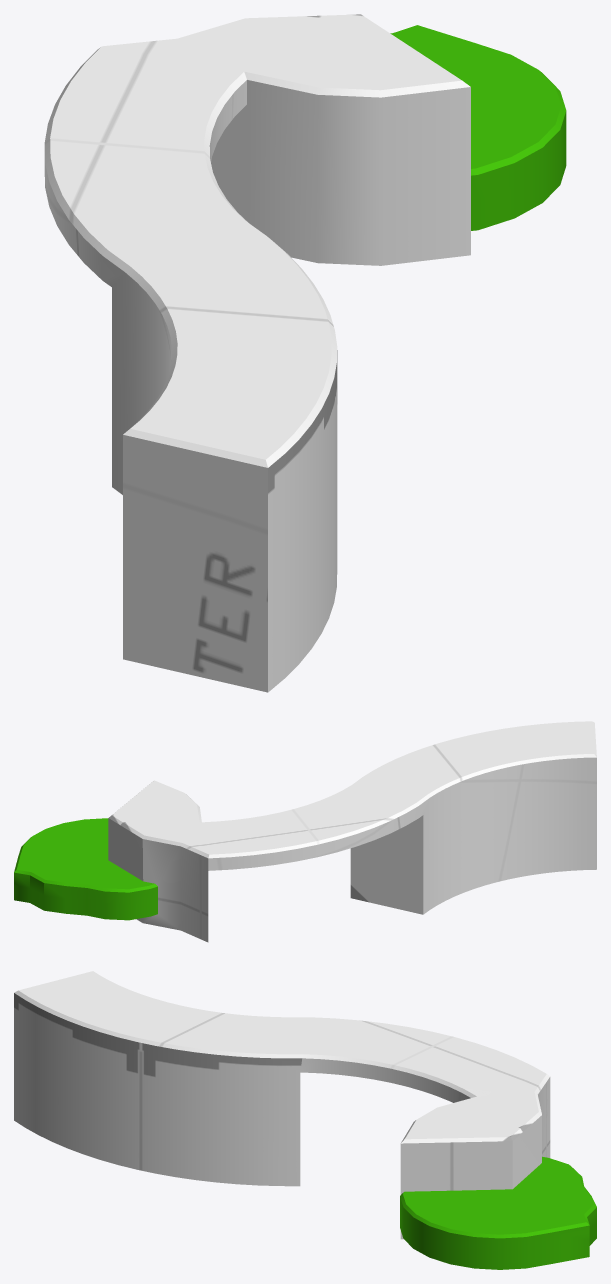
Rendered from Platform_CaveOasis_Arch3.fbx.
3 renders of one model, top to bottom at view 1: azimuth 30°, elevation 25°; view 2: azimuth 150°, elevation 25°; view 3: azimuth 270°, elevation 25°, orthographic. The views are drawn at different scales.
Parts seen in each view (by area): view 1: Platform_CaveOasis_Arch3; view 2: Platform_CaveOasis_Arch3; view 3: Platform_CaveOasis_Arch3.
Part boxes in pixels (bbox=[...]): Platform_CaveOasis_Arch3: bbox=[44, 14, 566, 692]; Platform_CaveOasis_Arch3: bbox=[14, 721, 596, 942]; Platform_CaveOasis_Arch3: bbox=[14, 971, 596, 1269].
Bounding box in the file's own units: 81.44 × 23 × 93.06.
2 materials, 1 textured.
